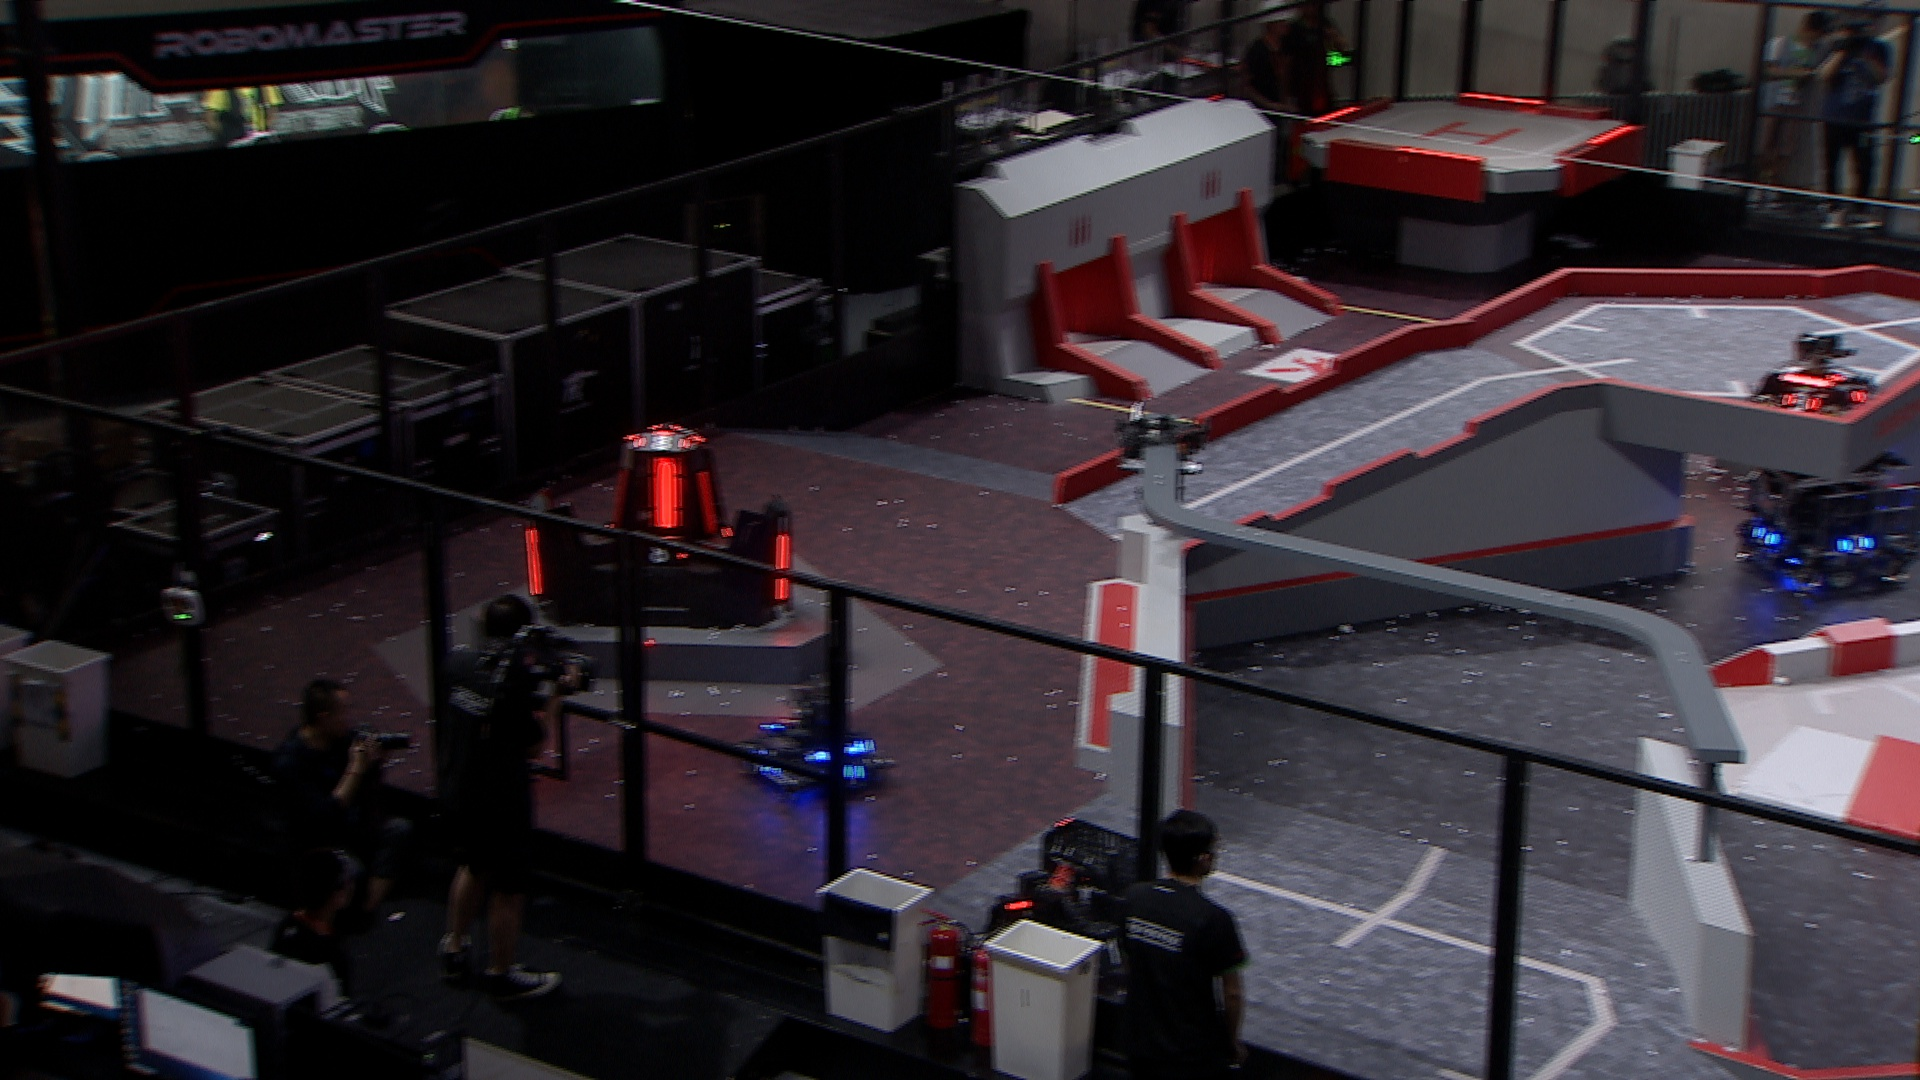armor: (651, 458, 680, 531), (522, 526, 545, 597), (609, 465, 632, 533), (694, 469, 717, 533), (771, 531, 790, 603), (1096, 930, 1135, 963), (636, 433, 690, 451), (638, 541, 688, 560), (749, 745, 778, 773), (1836, 531, 1873, 553), (1782, 392, 1817, 413), (827, 742, 865, 760), (1826, 363, 1855, 384), (765, 716, 800, 733), (1753, 522, 1776, 545), (1851, 382, 1878, 401)
base: (516, 422, 799, 633)
car: (978, 815, 1176, 1004), (1735, 423, 1920, 597), (744, 678, 889, 798), (1749, 320, 1882, 422)
watcher: (1120, 396, 1211, 508)
